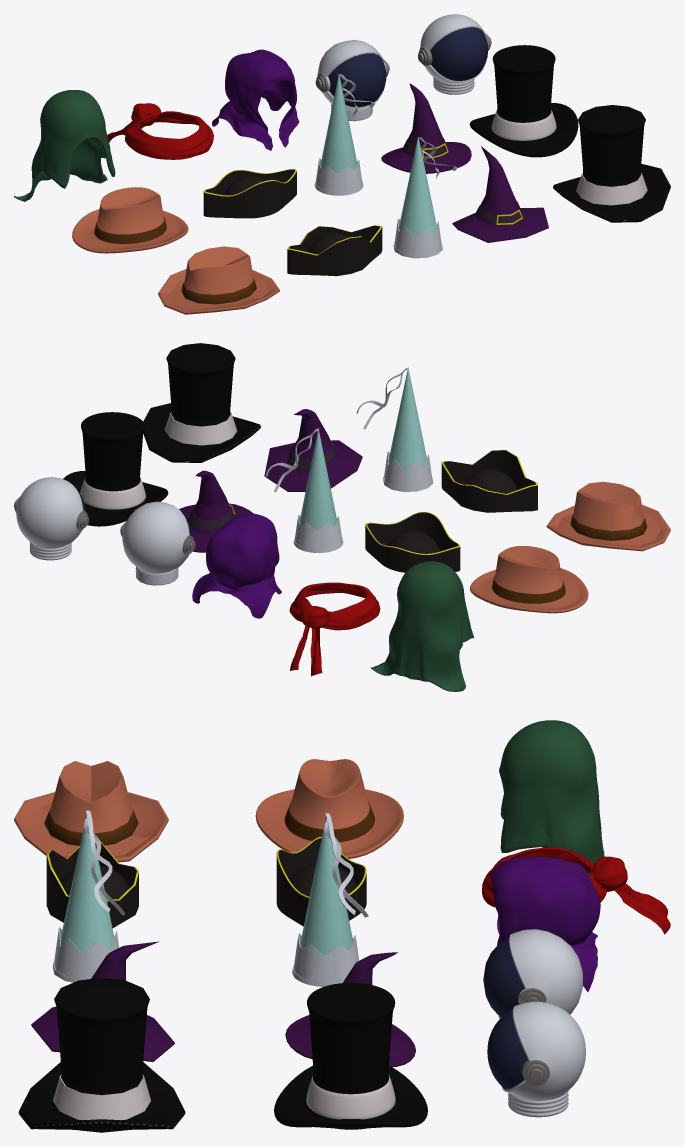
The model's file is hat-pack.glb.
3 renders of one model, top to bottom at view 1: azimuth 30°, elevation 25°; view 2: azimuth 150°, elevation 25°; view 3: azimuth 270°, elevation 25°, orthographic. The views are drawn at different scales.
Parts seen in each view (by area): view 1: TopHat_low, TopHat_high, Cloak_low, Cowboy_low, Cowboy_high, Hood_low_Hood_low_default_0, Pirate_low, Pirate_high, Witch_low, Princess_low, Princess_high, Headband_low (+6 smaller); view 2: TopHat_low, Cloak_low, TopHat_high, Hood_low_Hood_low_default_0, Cowboy_low, Cowboy_high, Pirate_low, Astronaut_low_07 - Default_0, Pirate_high, Astronaut_high_01 - Default_0, Witch_low, Princess_low (+4 smaller); view 3: TopHat_low, TopHat_high, Cloak_low, Cowboy_low, Cowboy_high, Hood_low_Hood_low_default_0, Princess_high, Princess_low, Astronaut_high_01 - Default_0, Astronaut_low_07 - Default_0, Pirate_high, Pirate_low (+6 smaller).
Part boxes in pixels (bbox=[...]): TopHat_low: bbox=[553, 105, 670, 222]; TopHat_high: bbox=[469, 45, 578, 157]; Cloak_low: bbox=[14, 90, 115, 201]; Cowboy_low: bbox=[158, 246, 279, 314]; Cowboy_high: bbox=[72, 187, 188, 253]; Hood_low_Hood_low_default_0: bbox=[212, 49, 299, 150]; Pirate_low: bbox=[287, 225, 382, 276]; Pirate_high: bbox=[203, 169, 296, 218]; Witch_low: bbox=[452, 146, 548, 242]; Princess_low: bbox=[393, 137, 456, 258]; Princess_high: bbox=[314, 74, 375, 195]; Headband_low: bbox=[107, 103, 213, 159]; TopHat_low: bbox=[143, 343, 260, 462]; Cloak_low: bbox=[371, 561, 473, 691]; TopHat_high: bbox=[63, 412, 168, 526]; Hood_low_Hood_low_default_0: bbox=[192, 513, 281, 618]; Cowboy_low: bbox=[546, 481, 670, 551]; Cowboy_high: bbox=[470, 546, 588, 613]; Pirate_low: bbox=[441, 450, 537, 512]; Astronaut_low_07 - Default_0: bbox=[122, 501, 189, 585]; Pirate_high: bbox=[365, 512, 460, 572]; Astronaut_high_01 - Default_0: bbox=[16, 477, 83, 548]; Witch_low: bbox=[264, 409, 362, 491]; Princess_low: bbox=[356, 367, 433, 491]; TopHat_low: bbox=[18, 977, 185, 1132]; TopHat_high: bbox=[274, 982, 427, 1129]; Cloak_low: bbox=[499, 720, 604, 875]; Cowboy_low: bbox=[14, 761, 168, 862]; Cowboy_high: bbox=[255, 759, 403, 858]; Hood_low_Hood_low_default_0: bbox=[490, 856, 600, 991]; Princess_high: bbox=[292, 813, 368, 986]; Princess_low: bbox=[52, 810, 125, 982]; Astronaut_high_01 - Default_0: bbox=[502, 1001, 585, 1100]; Astronaut_low_07 - Default_0: bbox=[498, 929, 582, 1018]; Pirate_high: bbox=[276, 836, 366, 926]; Pirate_low: bbox=[46, 841, 138, 928].
Bounding box in the file's own units: 1 × 0.2602 × 0.792.
